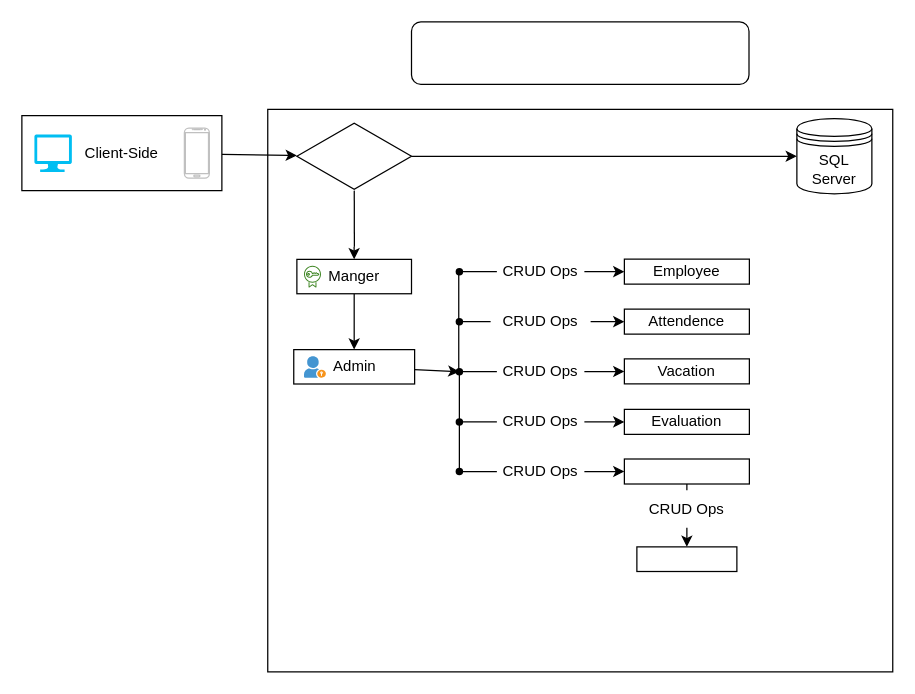
The diagram is 915 pixels wide and 694 high, and some of its shapes have lost their labels. Each missing label, with the centre of its shape:
"Backend-System" goes at point (354, 156).
"Department" goes at point (686, 471).
"HR Completed Services" goes at point (579, 52).
"Traniing" goes at point (686, 559).
